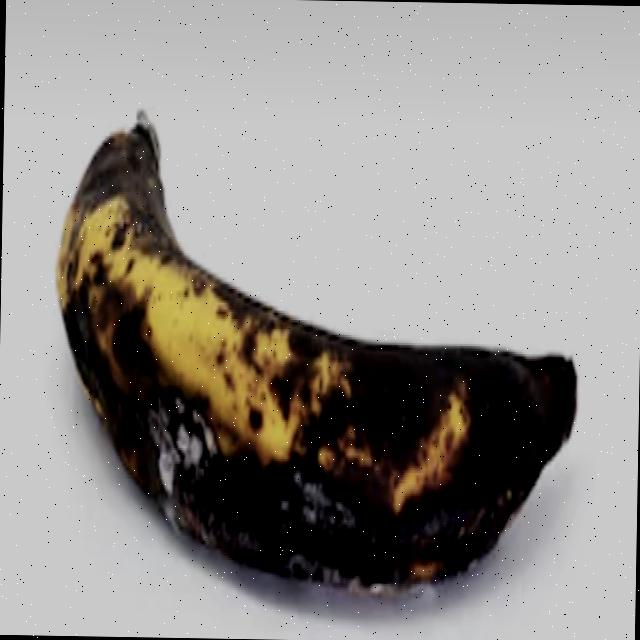Rotten: (42, 84, 594, 622)
